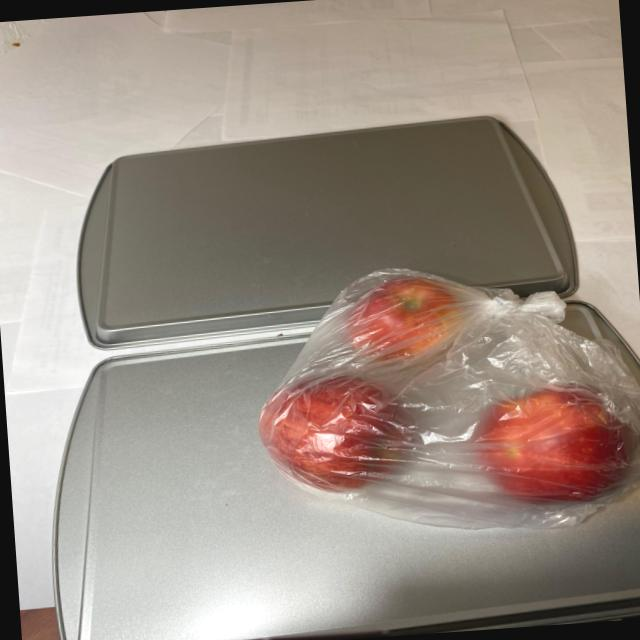apple: (244, 258, 640, 528)
